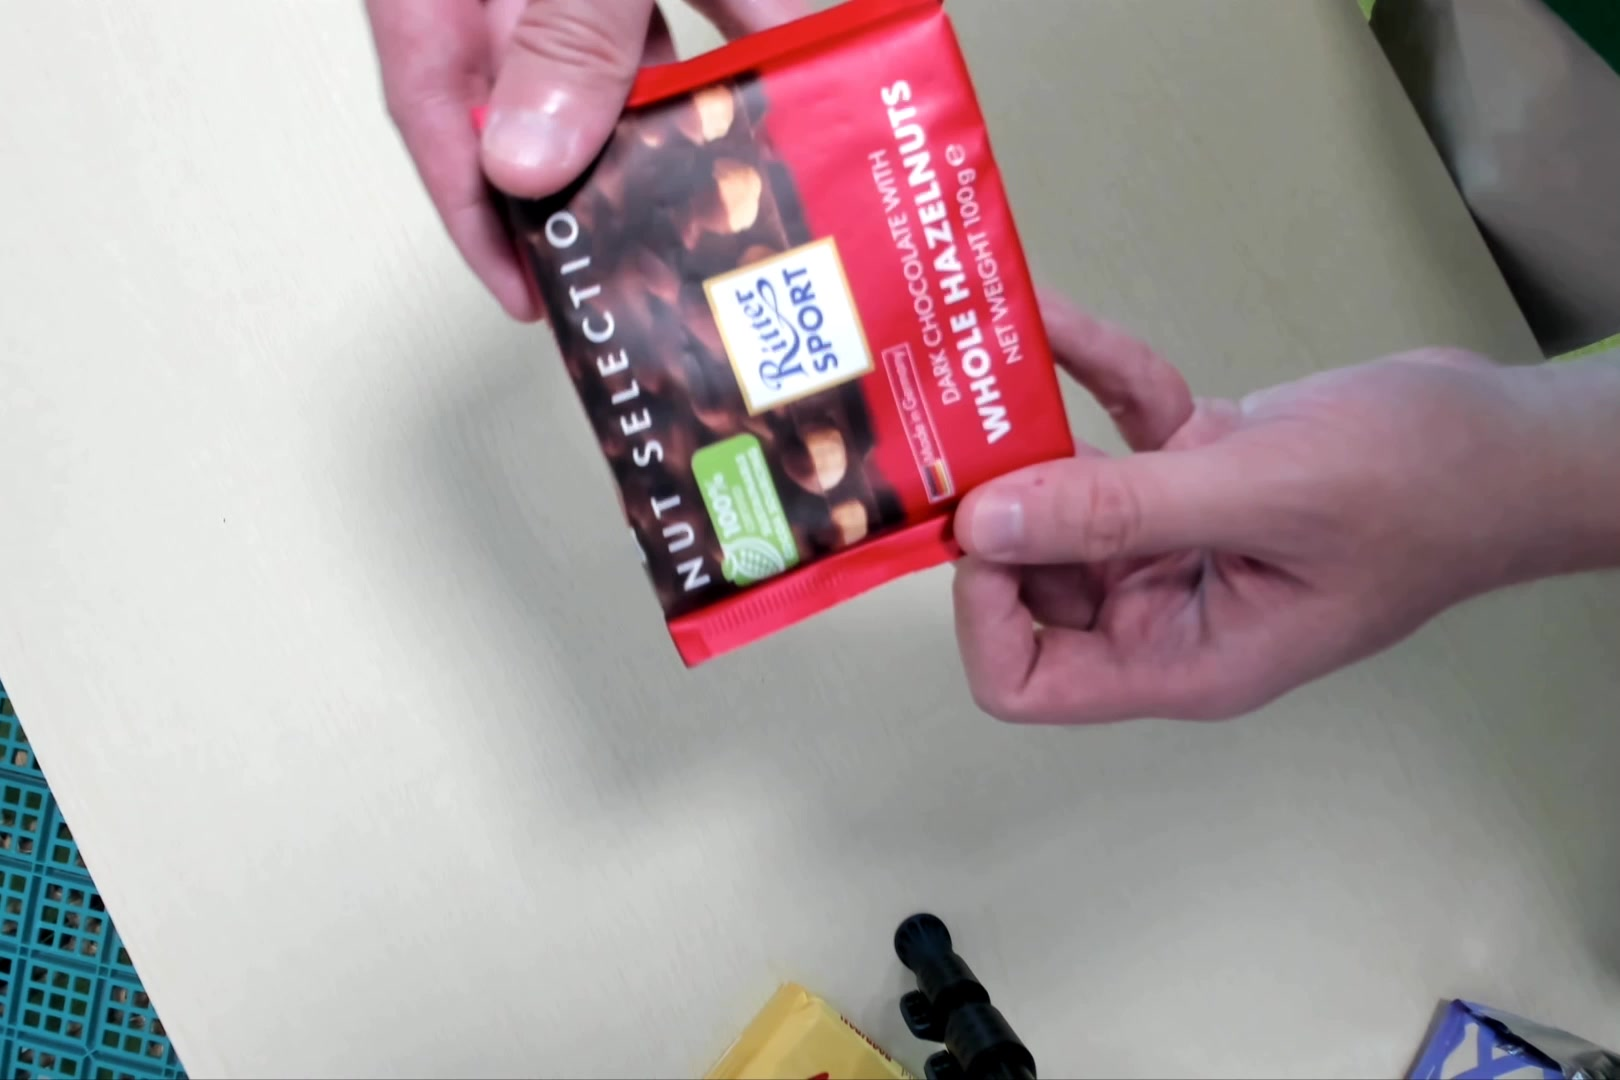SweetsChocolatesOthers_100-199g_NonHalal_NonHealthy: (480, 17, 1079, 661)
